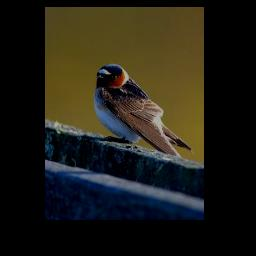Swallow: (93, 63, 194, 161)
